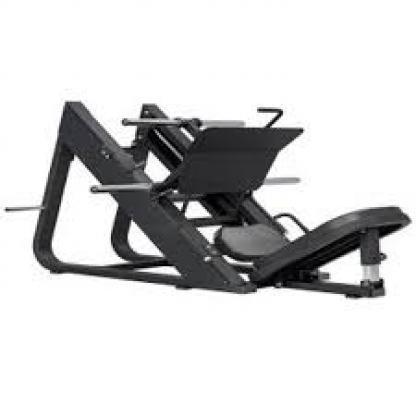leg press: (4, 98, 414, 313)
